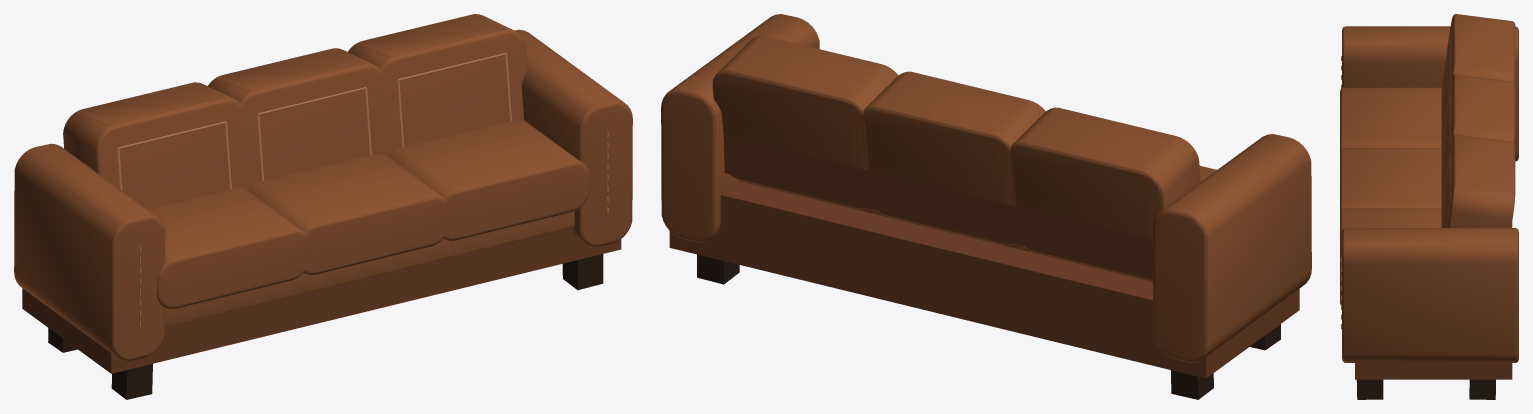
File: cognac-leather-sofa-backDepth-max.glb
3 renders of one model, left to right at view 1: azimuth 30°, elevation 25°; view 2: azimuth 150°, elevation 25°; view 3: azimuth 270°, elevation 25°, orthographic. The views are drawn at different scales.
Parts seen in each view (by area): view 1: sofa-part-28, sofa-part-4, back-cushion-3-part-0, back-cushion-1-part-0, back-cushion-2-part-0, seat-cushion-1-part-0, seat-cushion-2-part-0, seat-cushion-3-part-0, sofa-part-7, sofa-part-5, sofa-part-0, sofa-part-2; view 2: sofa-part-4, sofa-part-28, back-cushion-3-part-0, back-cushion-1-part-0, back-cushion-2-part-0, sofa-part-6, sofa-part-7, sofa-part-3, sofa-part-1; view 3: sofa-part-7, sofa-part-28, back-cushion-1-part-0, seat-cushion-3-part-0, seat-cushion-2-part-0, back-cushion-2-part-0, back-cushion-3-part-0, sofa-part-4, seat-cushion-1-part-0, sofa-part-0, sofa-part-1.
Boxes of the visible parts, x1,y1,x2,y2 form: sofa-part-28: (14,143,165,361); sofa-part-4: (22,228,621,373); back-cushion-3-part-0: (63,82,248,209); back-cushion-1-part-0: (348,14,527,155); back-cushion-2-part-0: (208,48,385,189); seat-cushion-1-part-0: (388,119,590,240); seat-cushion-2-part-0: (247,153,447,275); seat-cushion-3-part-0: (147,187,307,309); sofa-part-7: (515,29,632,247); sofa-part-5: (165,211,574,327); sofa-part-0: (562,254,603,290); sofa-part-2: (111,364,152,399); sofa-part-4: (669,181,1299,378); sofa-part-28: (1152,134,1311,362); back-cushion-3-part-0: (1009,107,1200,280); back-cushion-1-part-0: (712,35,898,209); back-cushion-2-part-0: (862,71,1045,245); sofa-part-6: (723,135,1152,277); sofa-part-7: (661,14,819,242); sofa-part-3: (1170,370,1213,399); sofa-part-1: (697,254,739,284); sofa-part-7: (1342,228,1518,362); sofa-part-28: (1342,26,1518,161); back-cushion-1-part-0: (1441,134,1515,227); seat-cushion-3-part-0: (1340,87,1441,151); seat-cushion-2-part-0: (1340,148,1441,211); back-cushion-2-part-0: (1441,74,1515,204); back-cushion-3-part-0: (1441,14,1515,144); sofa-part-4: (1355,222,1512,379); seat-cushion-1-part-0: (1340,208,1441,305); sofa-part-0: (1356,379,1383,399); sofa-part-1: (1469,379,1495,399).
Size of the model in its own units: 2.64 by 1.08 by 0.886.
